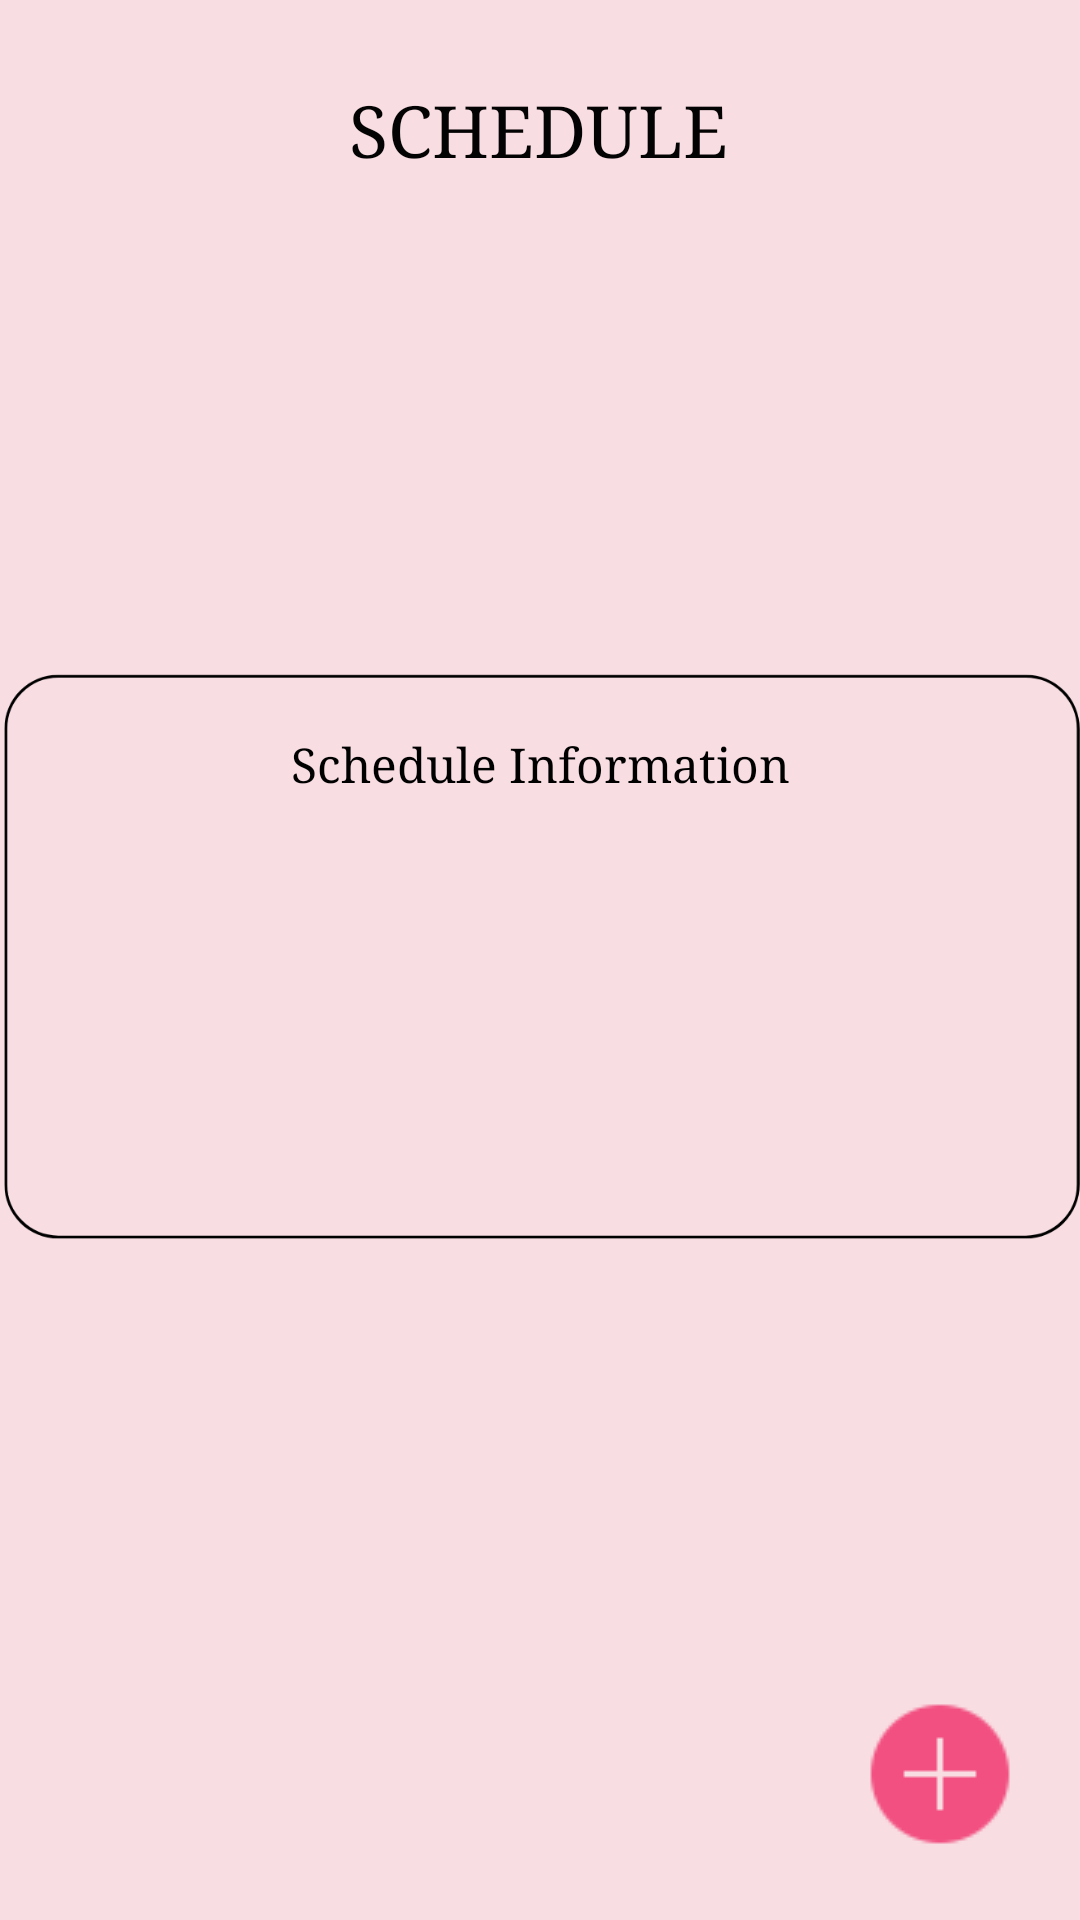

Icon click points for this 1080px×1920px phone screenshot, format (x=x, y=y):
plus: (x=940, y=1774)
